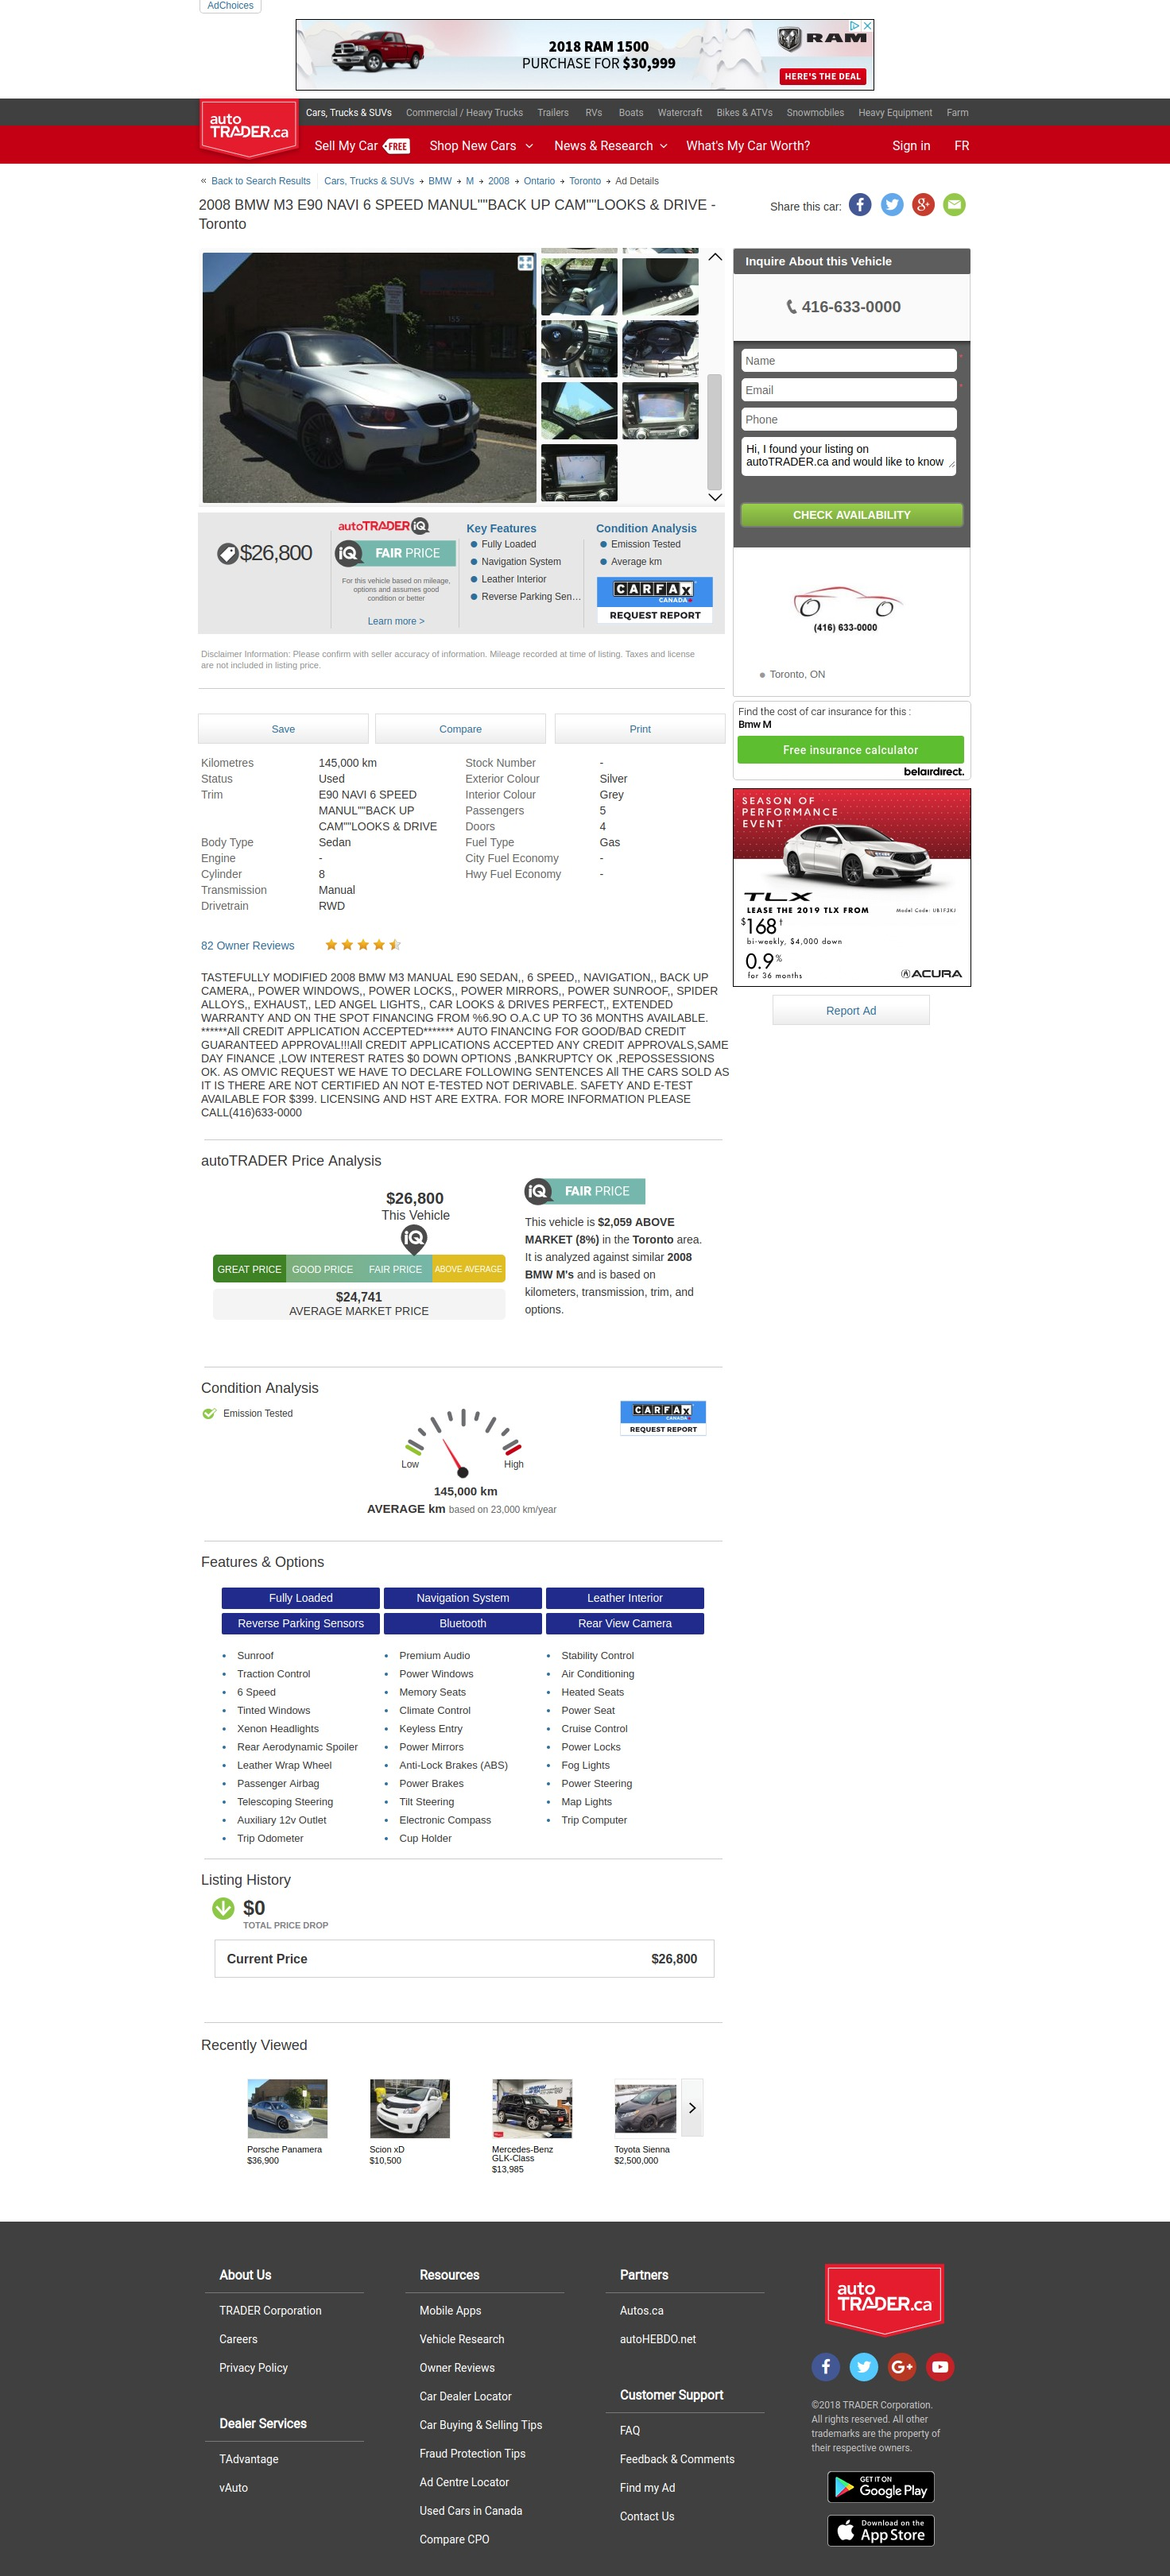car: (707, 493, 725, 503)
